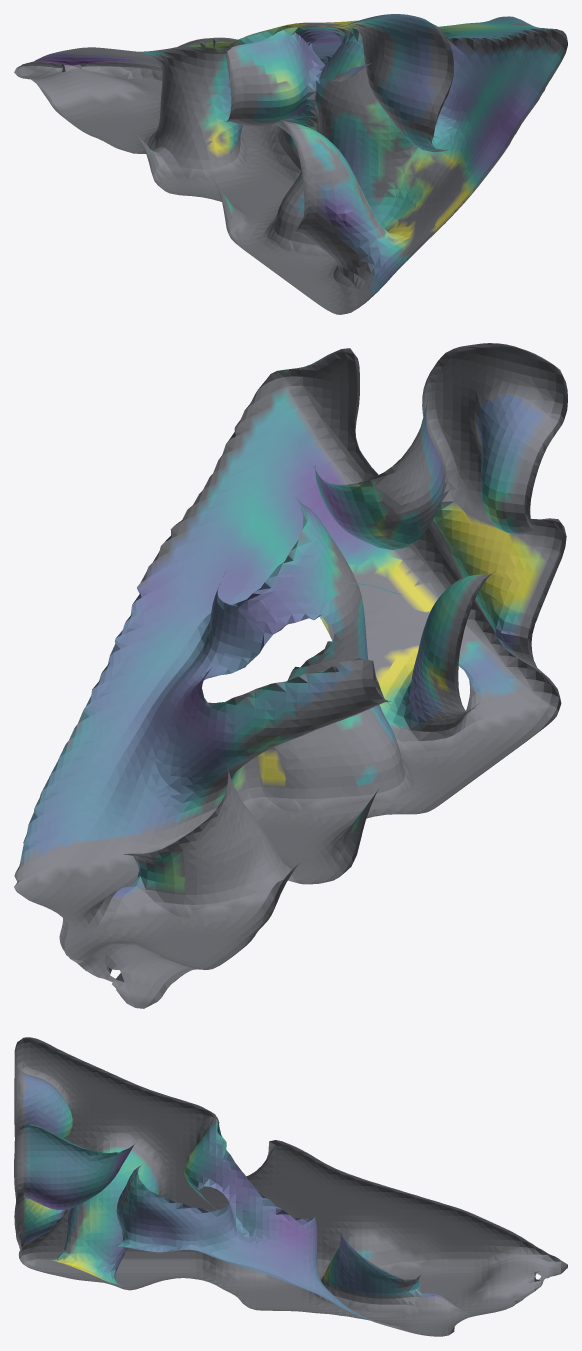
File: crop1072.glb
3 views of the same model, one above another, from view 1: azimuth 30°, elevation 25°; view 2: azimuth 150°, elevation 25°; view 3: azimuth 270°, elevation 25° (orthographic). The views are drawn at different scales.
Parts seen in each view (by area): view 1: geometry_0; view 2: geometry_0; view 3: geometry_0.
Part boxes in pixels (bbox=[...]): geometry_0: bbox=[14, 14, 567, 314]; geometry_0: bbox=[14, 343, 567, 1008]; geometry_0: bbox=[14, 1037, 567, 1336].
Size of the model in its own units: 271 by 320 by 668.
